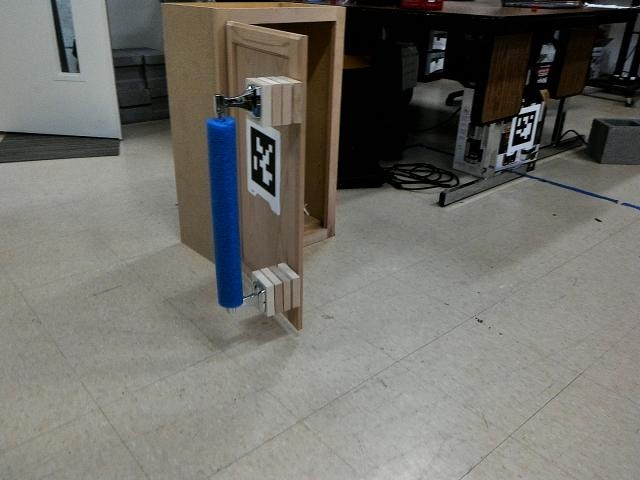noodle_handle: (202, 110, 247, 317)
